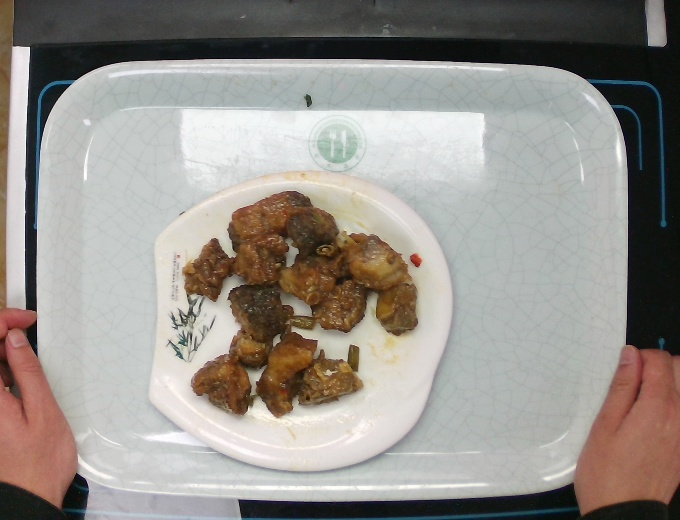JYsf-Mian_Pan: (146, 168, 455, 474)
